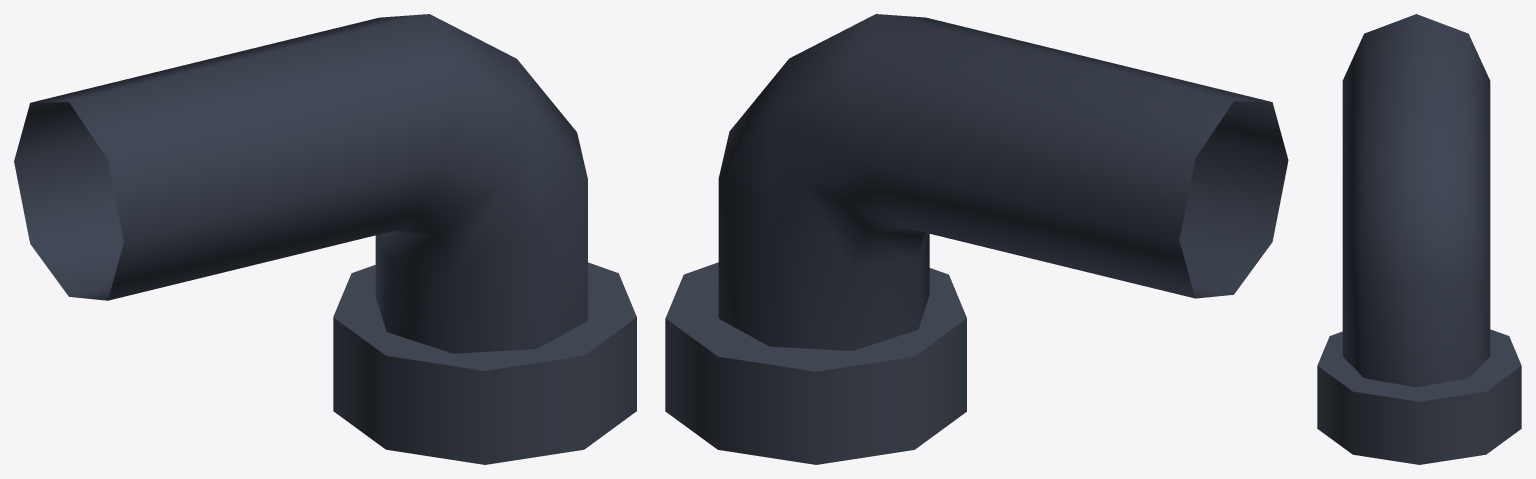
File: Pipe_1_F_2_1.fbx
The picture shows the model from 3 angles, left to right: view 1: azimuth 30°, elevation 25°; view 2: azimuth 150°, elevation 25°; view 3: azimuth 270°, elevation 25°; orthographic projection. The views are drawn at different scales.
Parts seen in each view (by area): view 1: Pipe_1_F_2_1; view 2: Pipe_1_F_2_1; view 3: Pipe_1_F_2_1.
Boxes of the visible parts, x1=… form: Pipe_1_F_2_1: x1=14, y1=14, x2=636, y2=464; Pipe_1_F_2_1: x1=665, y1=14, x2=1288, y2=464; Pipe_1_F_2_1: x1=1317, y1=14, x2=1521, y2=464.
Size of the model in its own units: 63.18 by 43.92 by 30.12.
